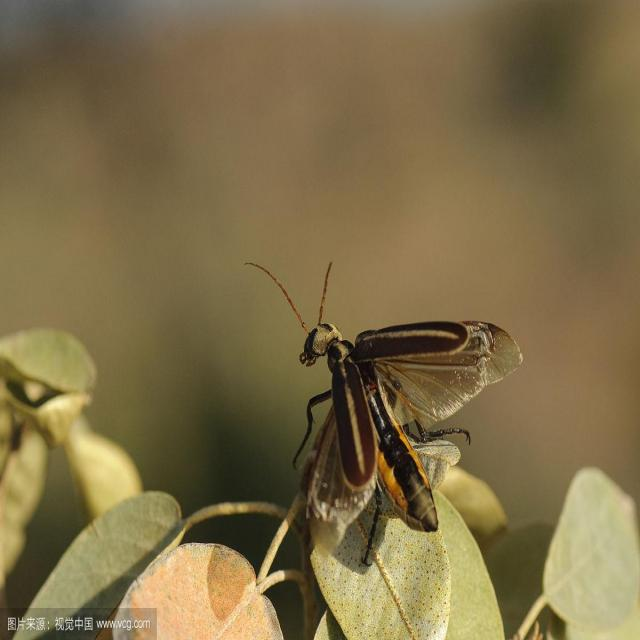BlisterBeetle-Adult-: (232, 240, 522, 588)
